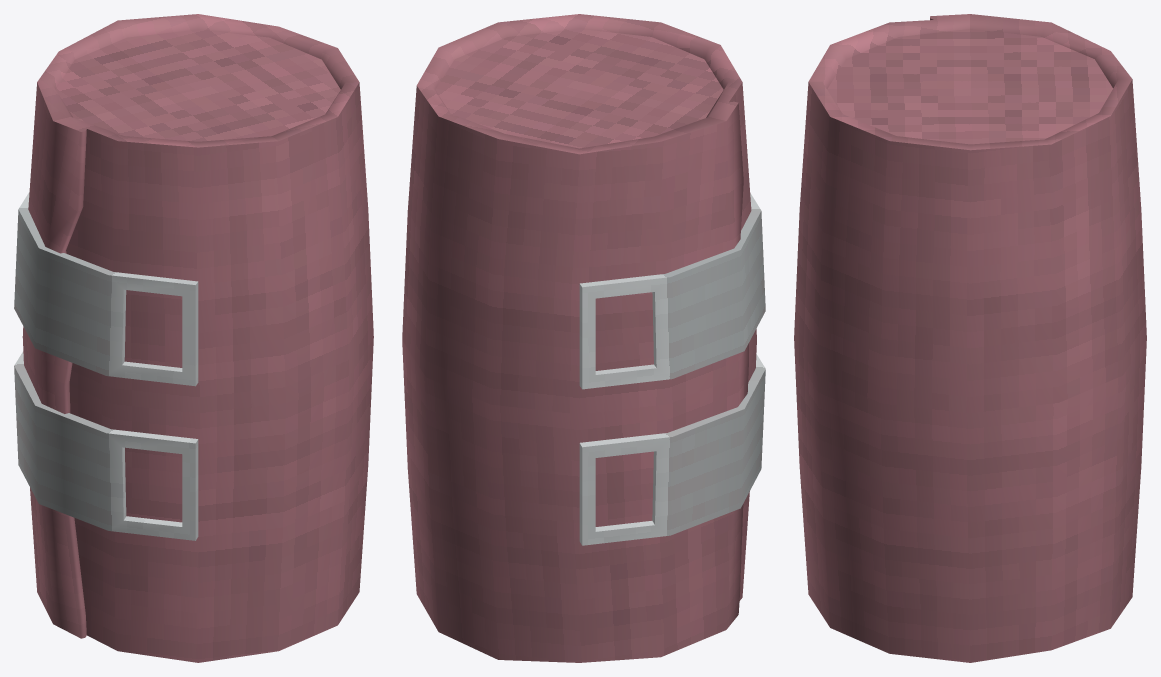
Rendered from bandage_fixator.obj.
The picture shows the model from 3 angles, left to right: view 1: azimuth 30°, elevation 25°; view 2: azimuth 150°, elevation 25°; view 3: azimuth 270°, elevation 25°; orthographic projection.
Parts seen in each view (by area): view 1: bandage_fixator; view 2: bandage_fixator; view 3: bandage_fixator.
Part boxes in pixels (x1,y1,x2,y2): bandage_fixator: [14, 14, 373, 662]; bandage_fixator: [402, 14, 765, 662]; bandage_fixator: [794, 14, 1146, 662].
Size of the model in its own units: 0.2032 by 0.3175 by 0.196.
